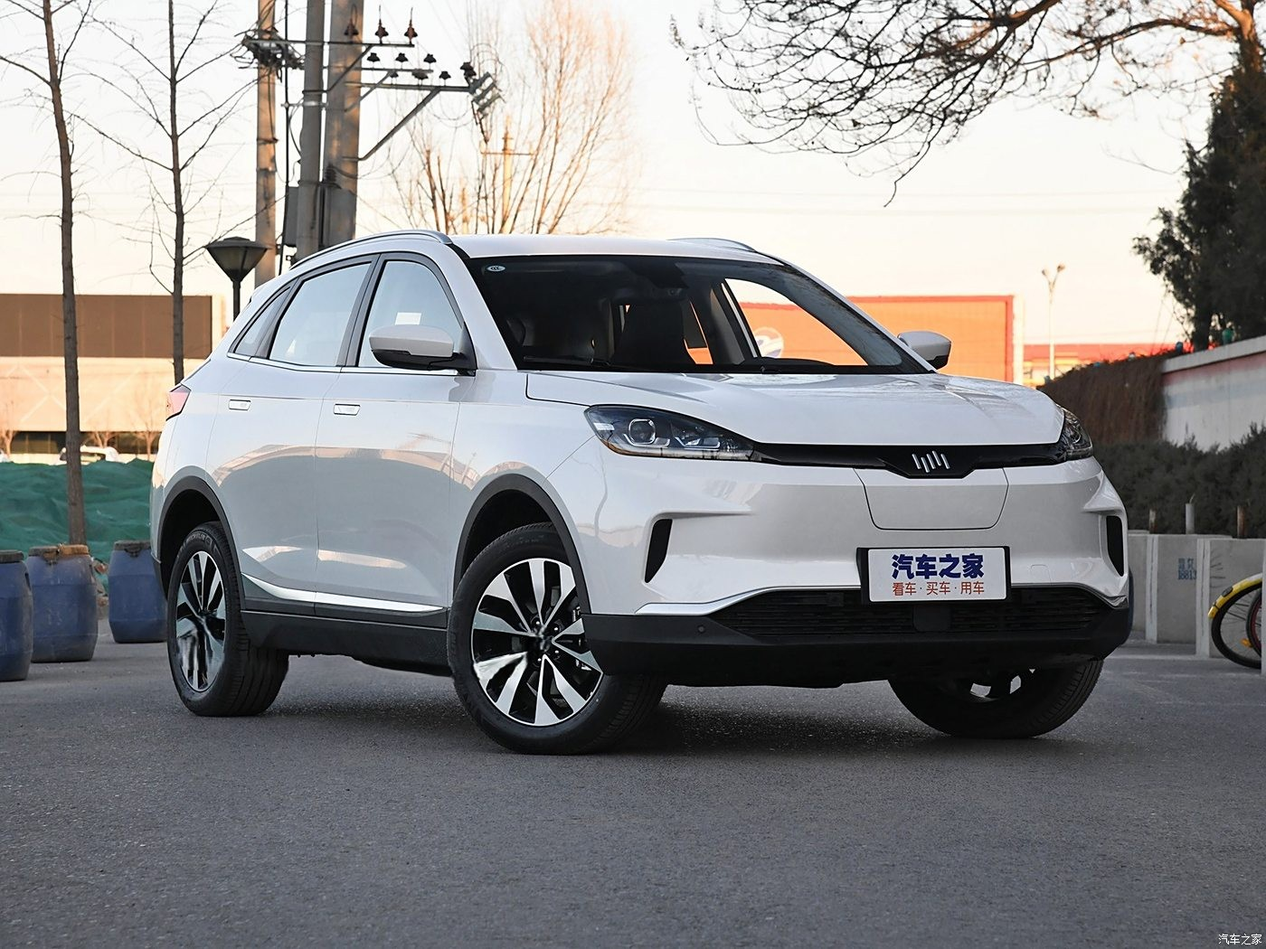WELTMEISTER: (913, 451, 950, 472)
